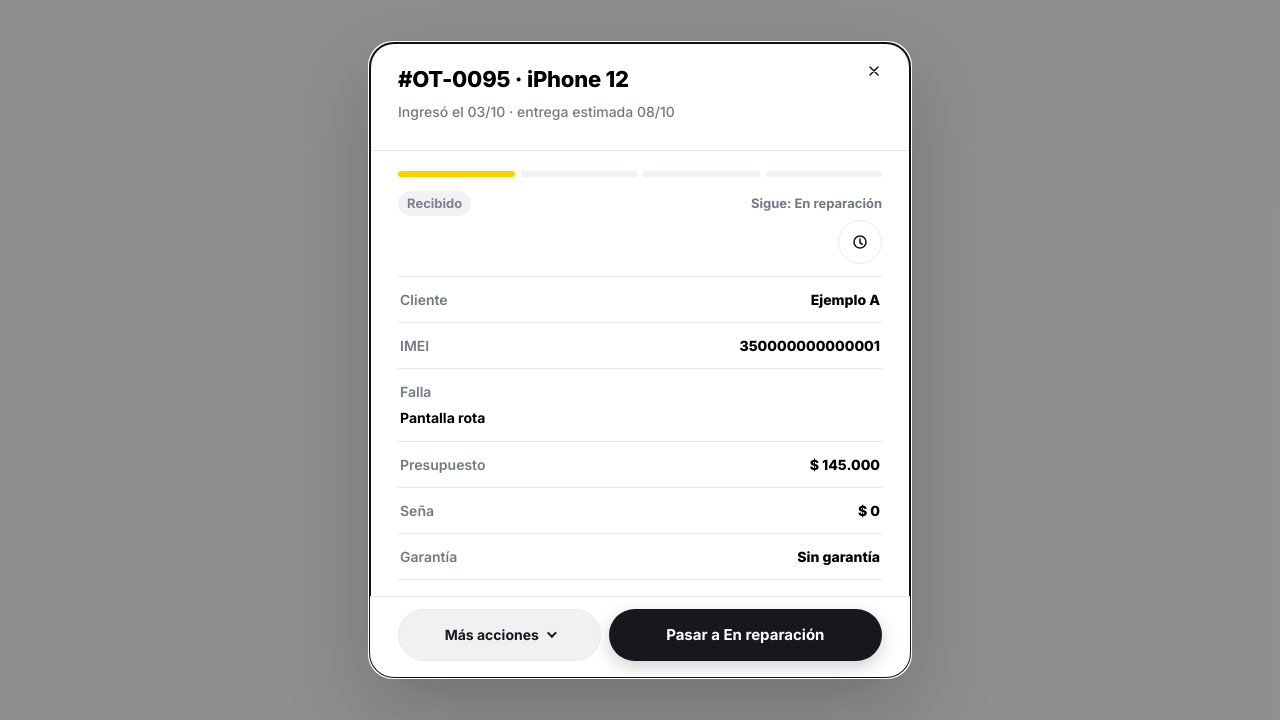
Scenario: servicio técnico › keeps the previous status names in the second history modal after they leave the board
Check: the text "En diagnóstico" is not shown
Check: the text "Esperando repuesto" is not shown
What coordinates should you click on to do the following:
click the button named "Historial"
I would click on:
 (860, 242)
Its box is [838,220,882,264].
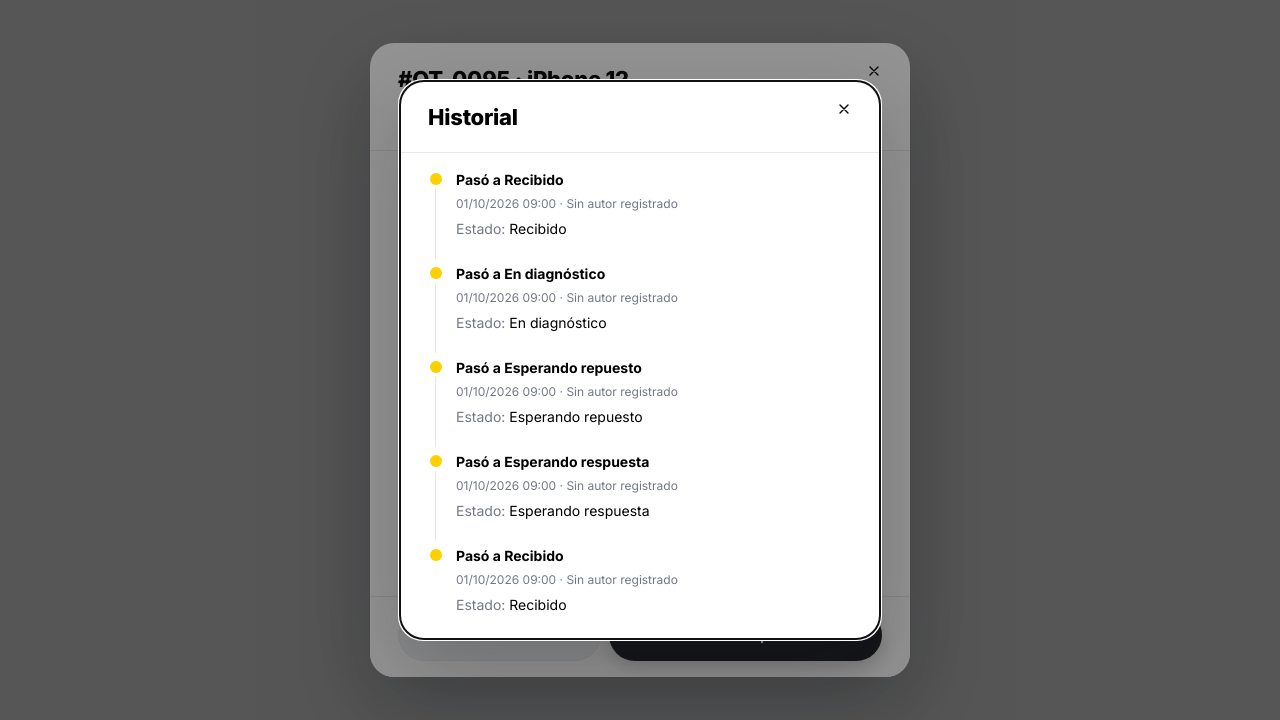
Check: the text "Pasó a En diagnóstico" is shown, box [456,265,605,282]
Check: the text "Pasó a Esperando repuesto" is shown, box [456,359,642,376]
Check: the text "Pasó a Esperando respuesta" is shown, box [456,453,649,470]
